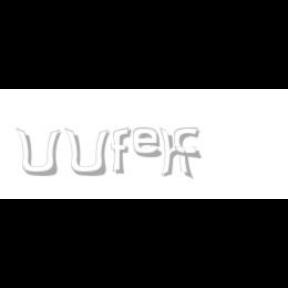U: (16, 128, 60, 178), (64, 128, 108, 178)
c: (174, 128, 202, 160)
e: (134, 128, 166, 158)
f: (111, 128, 135, 174)
h: (160, 128, 194, 180)
